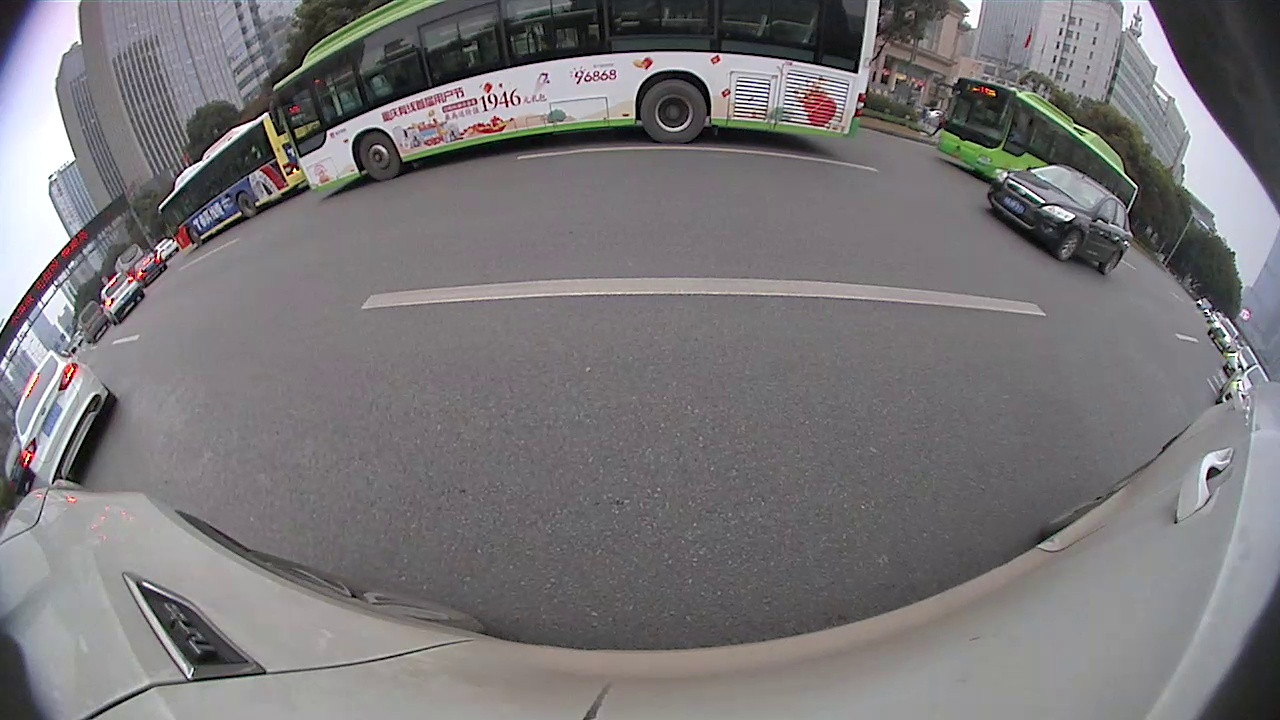bus: (267, 2, 879, 206), (933, 70, 1141, 211), (156, 107, 301, 260)
car: (987, 163, 1136, 279), (14, 349, 122, 485)
front: (357, 132, 402, 182), (1058, 228, 1081, 266)
rear: (639, 78, 708, 144), (235, 191, 259, 220), (1102, 250, 1121, 276)
